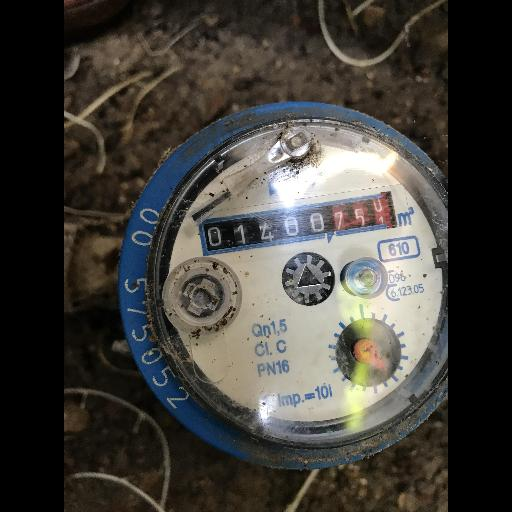0: (204, 220, 229, 252), (279, 209, 304, 240), (307, 207, 328, 236), (371, 196, 389, 226)
1: (230, 218, 251, 248)
4: (254, 214, 276, 245)
5: (350, 199, 368, 229)
7: (330, 203, 347, 232)
border_water_meter_number: (198, 191, 398, 257)
